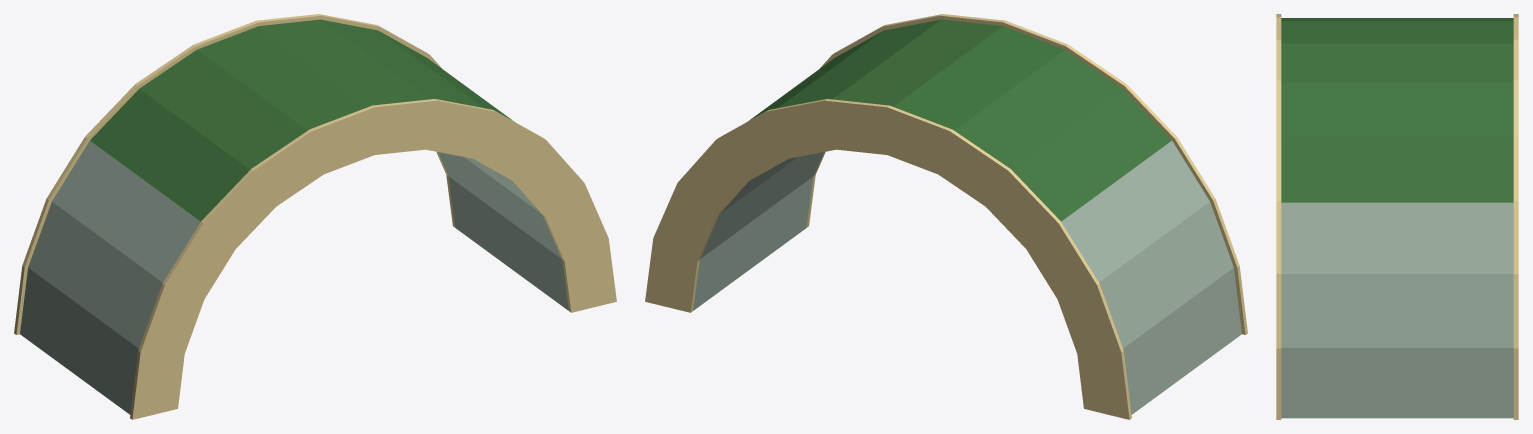
File: garden_tunnel.glb
3 views of the same model, side by side, from view 1: azimuth 30°, elevation 25°; view 2: azimuth 150°, elevation 25°; view 3: azimuth 270°, elevation 25° (orthographic). The views are drawn at different scales.
Visible parts, largest first — view 1: TunnelShell; view 2: TunnelShell; view 3: TunnelShell.
Boxes of the visible parts, box(x1,y1,x2,y2) form: TunnelShell: box(14, 14, 616, 419); TunnelShell: box(645, 14, 1247, 419); TunnelShell: box(1276, 14, 1518, 419).
Size of the model in its own units: 34.5 by 17.25 by 14.6.
